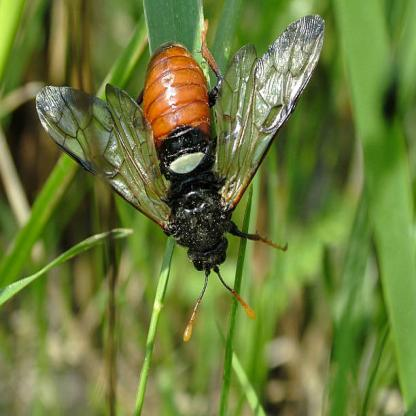sawfly: (34, 10, 331, 346)
